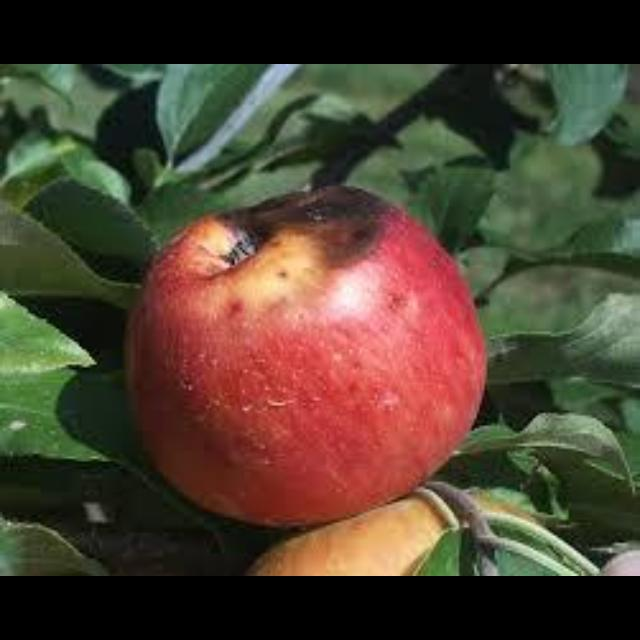apple: (127, 186, 482, 520)
rotten: (233, 190, 395, 318)
